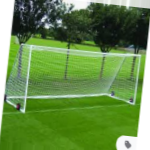goals: (5, 43, 141, 112)
